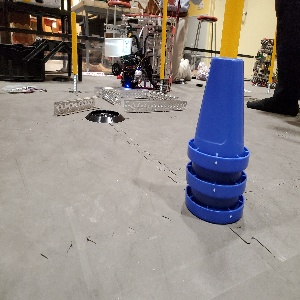Blue_3: (184, 55, 249, 223)
